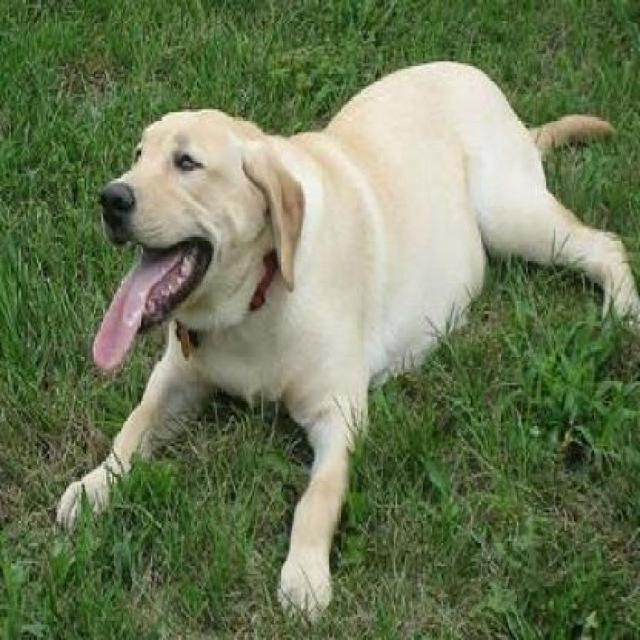Dog: (56, 57, 638, 625)
